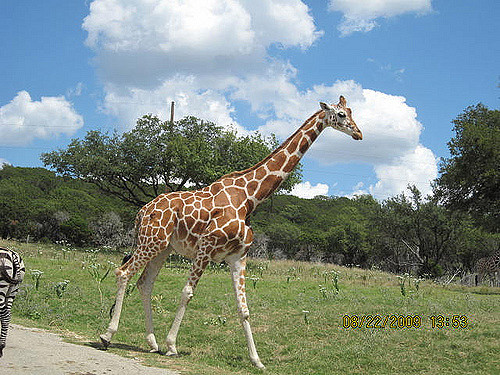giraffe: (102, 93, 372, 353)
